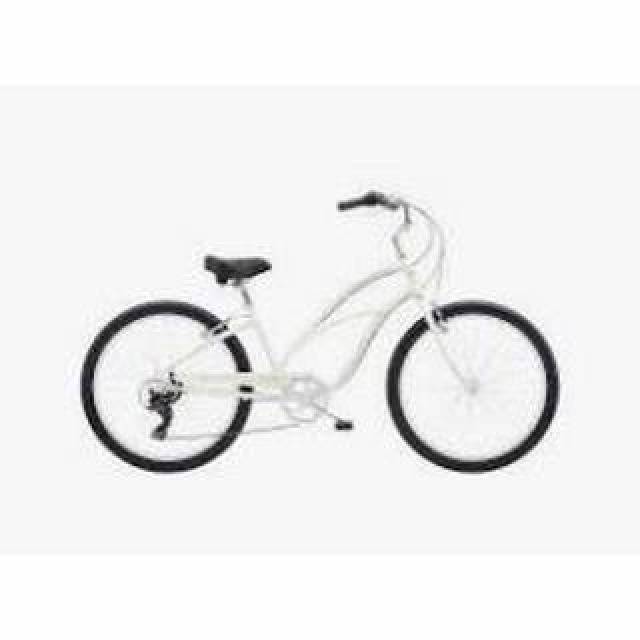Person: (81, 187, 561, 479)
